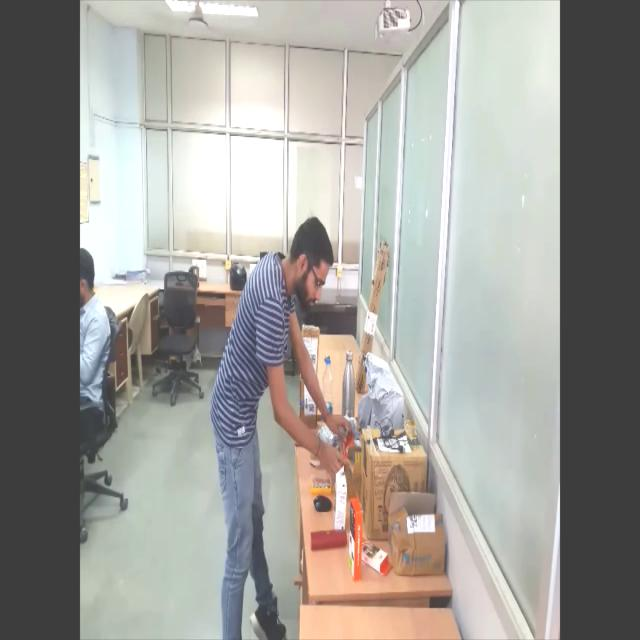normal: (209, 144, 349, 635)
